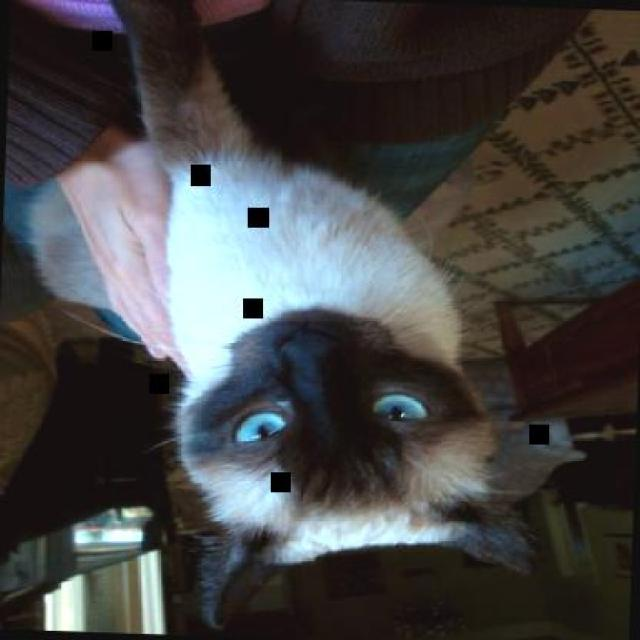cat: (23, 0, 557, 638)
